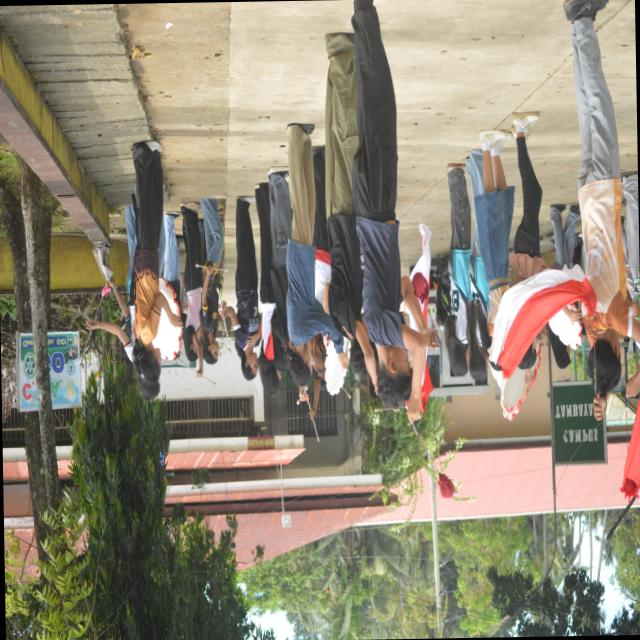person: (352, 0, 436, 422), (564, 0, 639, 419), (325, 33, 377, 387), (286, 123, 347, 384), (132, 140, 182, 382), (473, 129, 514, 349), (222, 196, 261, 379), (441, 162, 474, 376), (509, 112, 546, 281), (255, 181, 281, 394), (268, 166, 292, 370), (180, 202, 204, 377), (200, 197, 223, 362), (467, 213, 489, 378), (164, 211, 183, 311), (551, 203, 580, 267), (308, 332, 327, 372)
